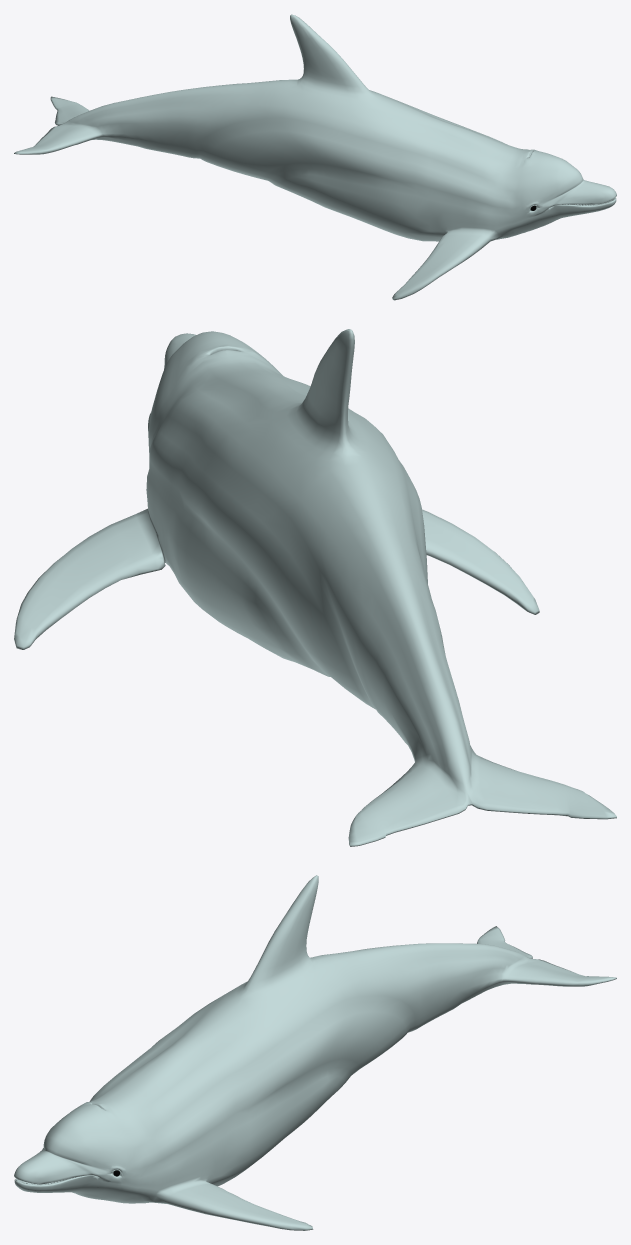
The model's file is dolphin_000001.obj.
3 renders of one model, top to bottom at view 1: azimuth 30°, elevation 25°; view 2: azimuth 150°, elevation 25°; view 3: azimuth 270°, elevation 25°, orthographic. The views are drawn at different scales.
Parts seen in each view (by area): view 1: Dolphin; view 2: Dolphin; view 3: Dolphin.
Part boxes in pixels (x1,y1,x2,y2): Dolphin: (14,14,616,300); Dolphin: (14,329,616,846); Dolphin: (14,875,616,1230).
Size of the model in its own units: 5.52 by 2.74 by 5.6.
